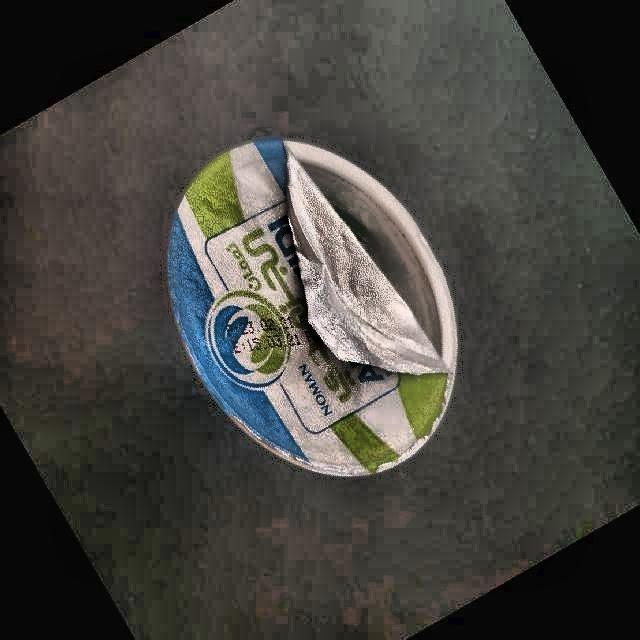plastic: (168, 141, 458, 476)
